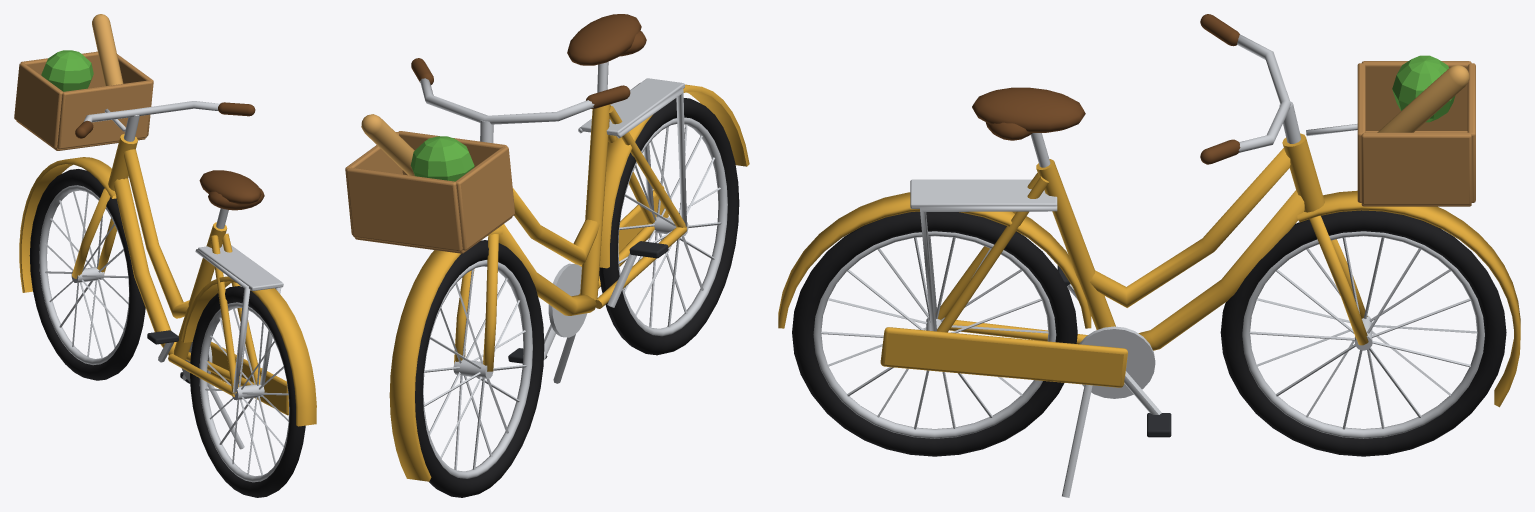
File: bicycle_yellow.fbx
The picture shows the model from 3 angles, left to right: view 1: azimuth 30°, elevation 25°; view 2: azimuth 150°, elevation 25°; view 3: azimuth 270°, elevation 25°; orthographic projection. The views are drawn at different scales.
Visible parts, largest first — view 1: bicycle_yellow; view 2: bicycle_yellow; view 3: bicycle_yellow.
Part boxes in pixels (box(x1,y1,x2,y2)): bicycle_yellow: box(14, 14, 316, 497); bicycle_yellow: box(345, 14, 749, 497); bicycle_yellow: box(778, 14, 1520, 497).
Bounding box in the file's own units: 0.6762 × 1.18 × 1.82.
